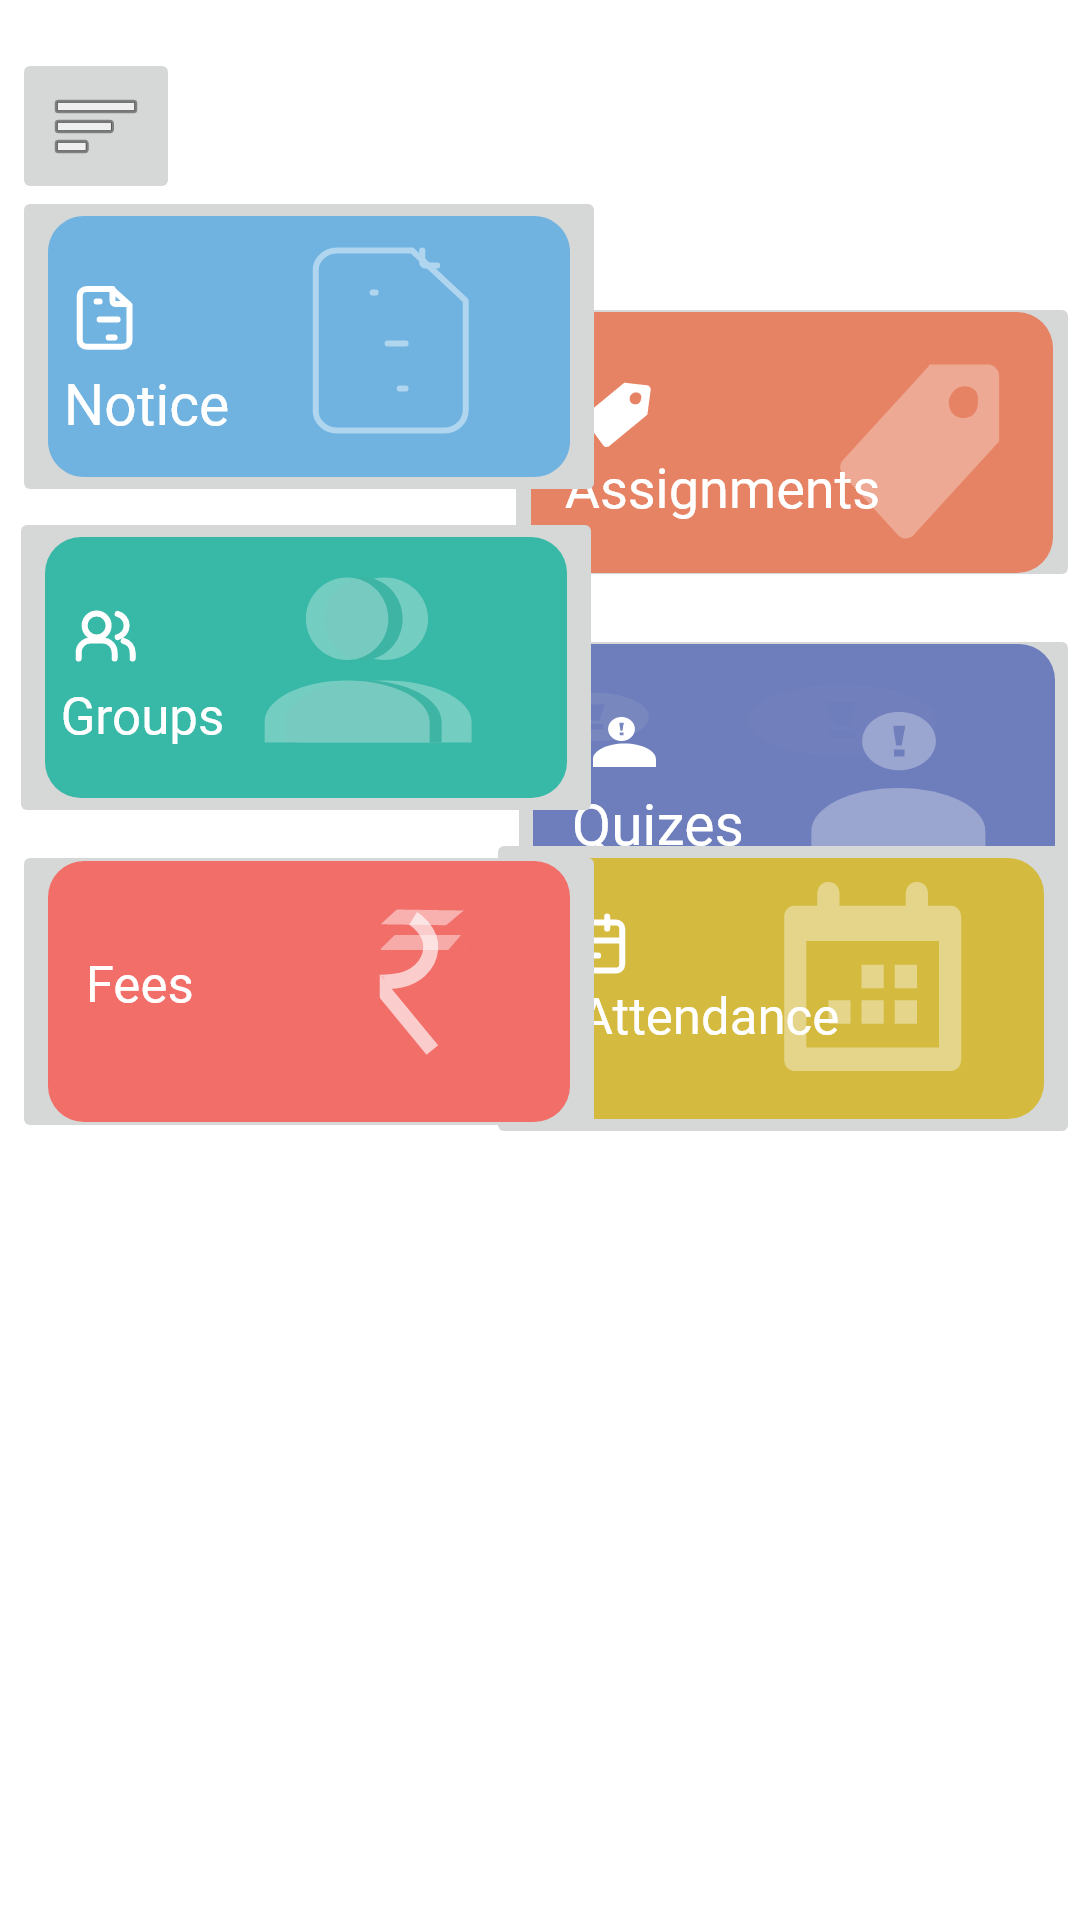

Where to tap for icons on this 1080 × 1920 app screen, as (x=x, y=y):
sort by size: (x=96, y=126)
